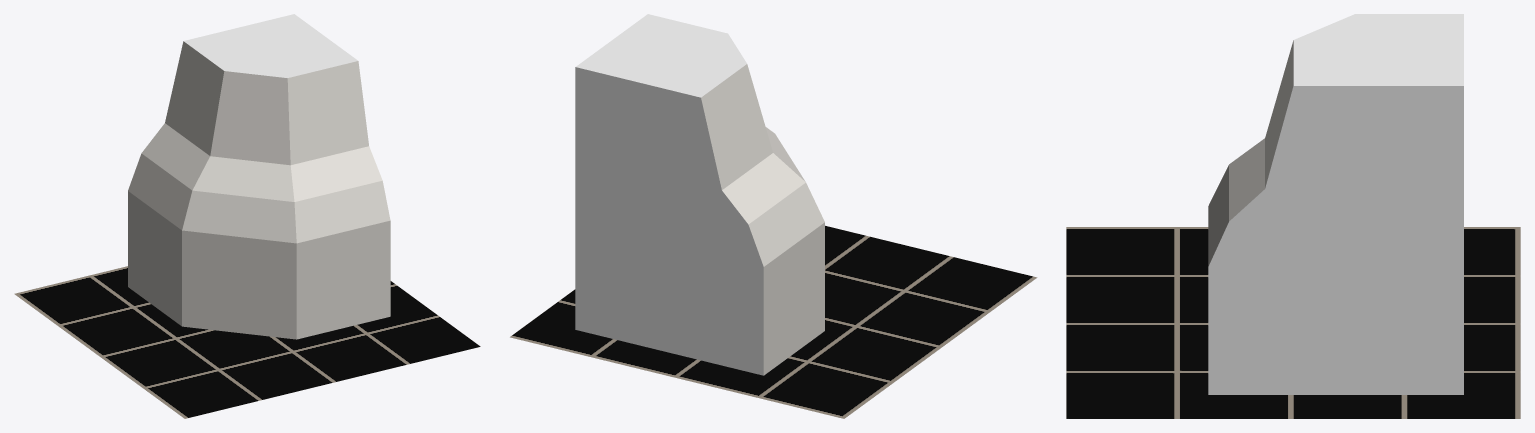
The model's file is Basic_Curve_Outer_2x2_Narrow_Base.glb.
3 views of the same model, side by side, from view 1: azimuth 30°, elevation 25°; view 2: azimuth 150°, elevation 25°; view 3: azimuth 270°, elevation 25° (orthographic). The views are drawn at different scales.
Visible parts, largest first — view 1: Basic_Curve_Outer_2x2_Narrow_Base, Floor; view 2: Basic_Curve_Outer_2x2_Narrow_Base, Floor; view 3: Basic_Curve_Outer_2x2_Narrow_Base, Floor.
Boxes of the visible parts, bbox=[...] form: Basic_Curve_Outer_2x2_Narrow_Base: bbox=[128, 14, 390, 339]; Floor: bbox=[14, 266, 480, 418]; Basic_Curve_Outer_2x2_Narrow_Base: bbox=[575, 14, 824, 375]; Floor: bbox=[510, 225, 1037, 418]; Basic_Curve_Outer_2x2_Narrow_Base: bbox=[1208, 14, 1463, 394]; Floor: bbox=[1066, 227, 1520, 418].
Size of the model in its own units: 400 by 300 by 400.
3 materials, 1 textured.
